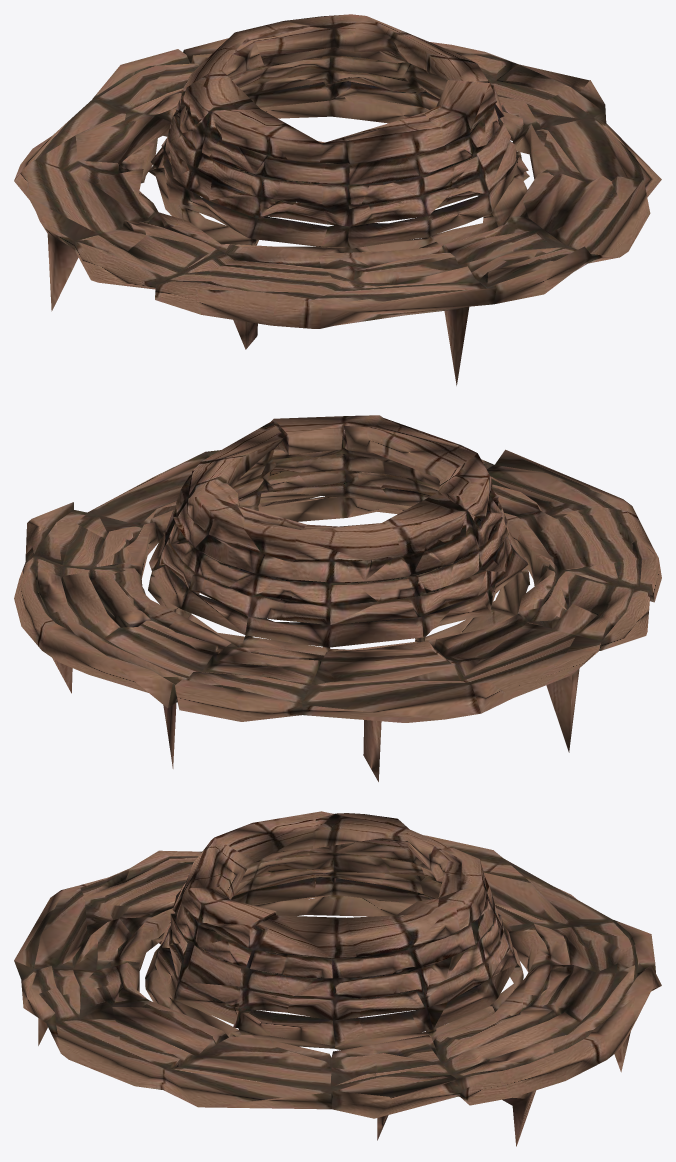
File: treebench2_lod1.glb
The picture shows the model from 3 angles, top to bottom: view 1: azimuth 30°, elevation 25°; view 2: azimuth 150°, elevation 25°; view 3: azimuth 270°, elevation 25°; orthographic projection.
Visible parts, largest first — view 1: tripo_node_1c33e409-3047-463b-b077-431a1b02eb39; view 2: tripo_node_1c33e409-3047-463b-b077-431a1b02eb39; view 3: tripo_node_1c33e409-3047-463b-b077-431a1b02eb39.
Part boxes in pixels (left/top/right/bottom): tripo_node_1c33e409-3047-463b-b077-431a1b02eb39: left=14, top=14, right=661, bottom=385; tripo_node_1c33e409-3047-463b-b077-431a1b02eb39: left=14, top=415, right=661, bottom=781; tripo_node_1c33e409-3047-463b-b077-431a1b02eb39: left=14, top=811, right=661, bottom=1146.
Bounding box in the file's own units: 2.43 × 0.7998 × 2.46.
Materials: 1 (1 with a texture image).
